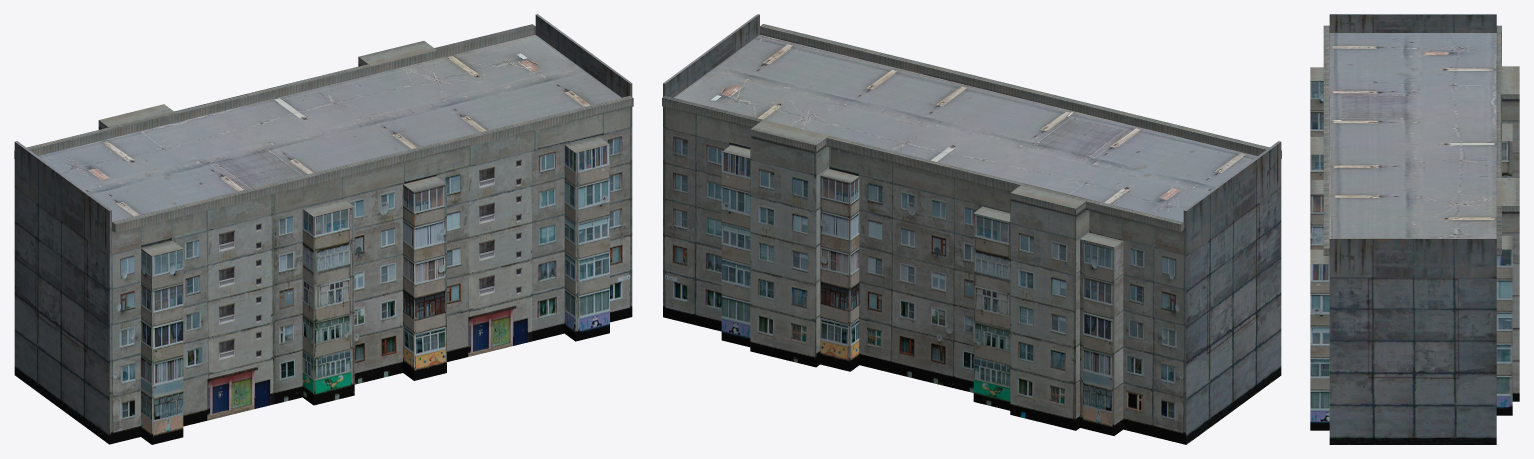
Rendered from cube.002_pionerskaya_4.001_0.glb.
3 views of the same model, side by side, from view 1: azimuth 30°, elevation 25°; view 2: azimuth 150°, elevation 25°; view 3: azimuth 270°, elevation 25° (orthographic). The views are drawn at different scales.
Parts seen in each view (by area): view 1: Cube.002_pionerskaya_4.001_0; view 2: Cube.002_pionerskaya_4.001_0; view 3: Cube.002_pionerskaya_4.001_0.
Boxes of the visible parts, x1,y1,x2,y2 form: Cube.002_pionerskaya_4.001_0: (14,14,633,444); Cube.002_pionerskaya_4.001_0: (662,14,1281,444); Cube.002_pionerskaya_4.001_0: (1310,14,1519,444).
Size of the model in its own units: 33.16 by 14.16 by 13.05.
1 material, 1 textured.
